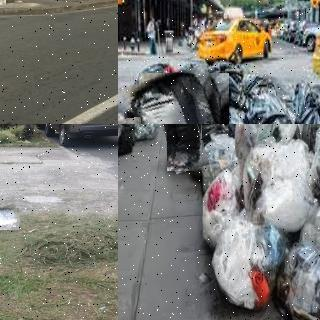Garbage: (209, 206, 284, 311), (240, 135, 319, 229), (129, 68, 238, 124), (279, 199, 320, 320), (199, 165, 240, 248), (243, 89, 303, 124), (163, 124, 205, 172), (0, 205, 19, 232), (118, 124, 134, 156)
